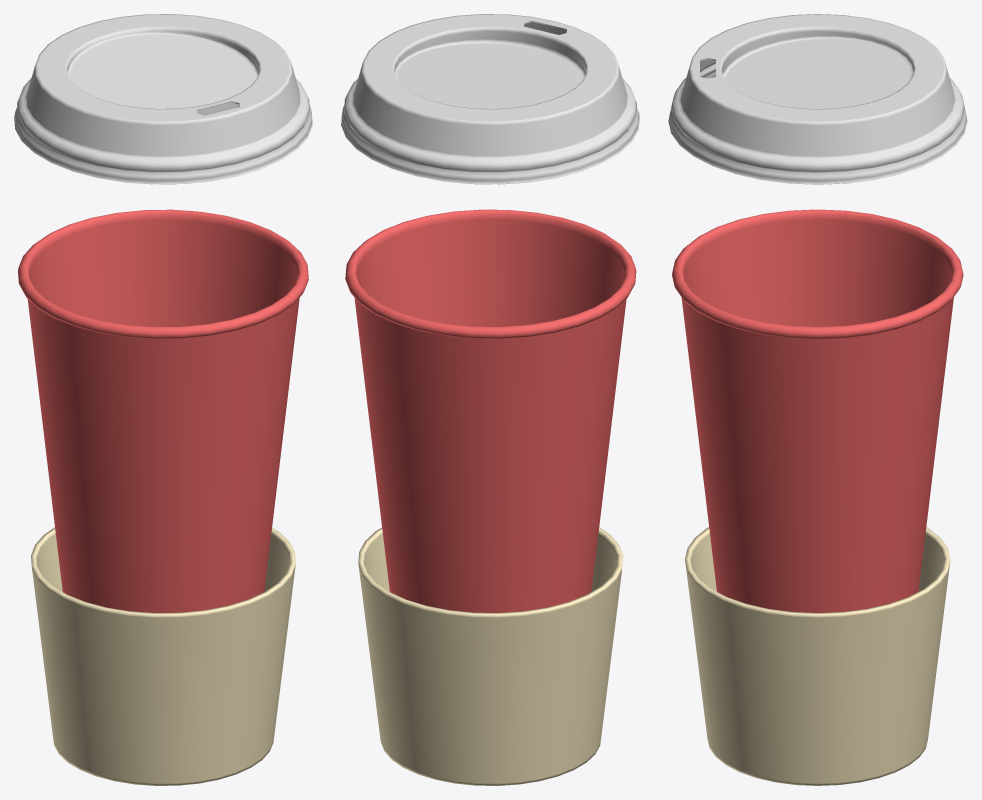
Rendered from cup2.gltf.
3 views of the same model, side by side, from view 1: azimuth 30°, elevation 25°; view 2: azimuth 150°, elevation 25°; view 3: azimuth 270°, elevation 25° (orthographic).
Visible parts, largest first — view 1: Cup_0, Sleeve_2, Lid_1; view 2: Cup_0, Sleeve_2, Lid_1; view 3: Cup_0, Sleeve_2, Lid_1.
Part boxes in pixels (<box>): Cup_0: <box>18,209,308,612</box>; Sleeve_2: <box>31,527,295,785</box>; Lid_1: <box>14,14,312,184</box>; Cup_0: <box>345,209,636,612</box>; Sleeve_2: <box>358,527,623,785</box>; Lid_1: <box>341,14,639,184</box>; Cup_0: <box>672,209,963,612</box>; Sleeve_2: <box>685,527,950,785</box>; Lid_1: <box>668,14,967,184</box>.
Size of the model in its own units: 1.59 by 3.94 by 1.59.
